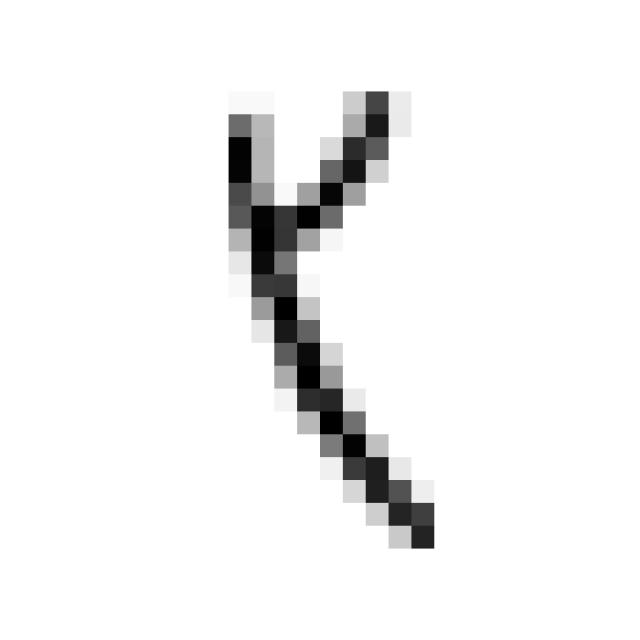3 -three-: (206, 71, 462, 569)
